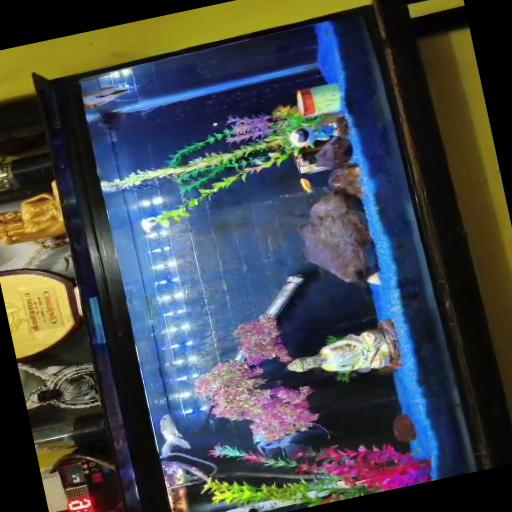Fish: (254, 423, 331, 459), (161, 414, 192, 457), (83, 87, 133, 109), (300, 178, 313, 193)
